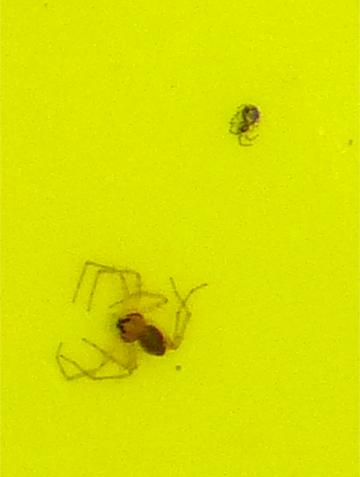Araneae: (100, 289, 187, 377), (227, 100, 260, 144)
